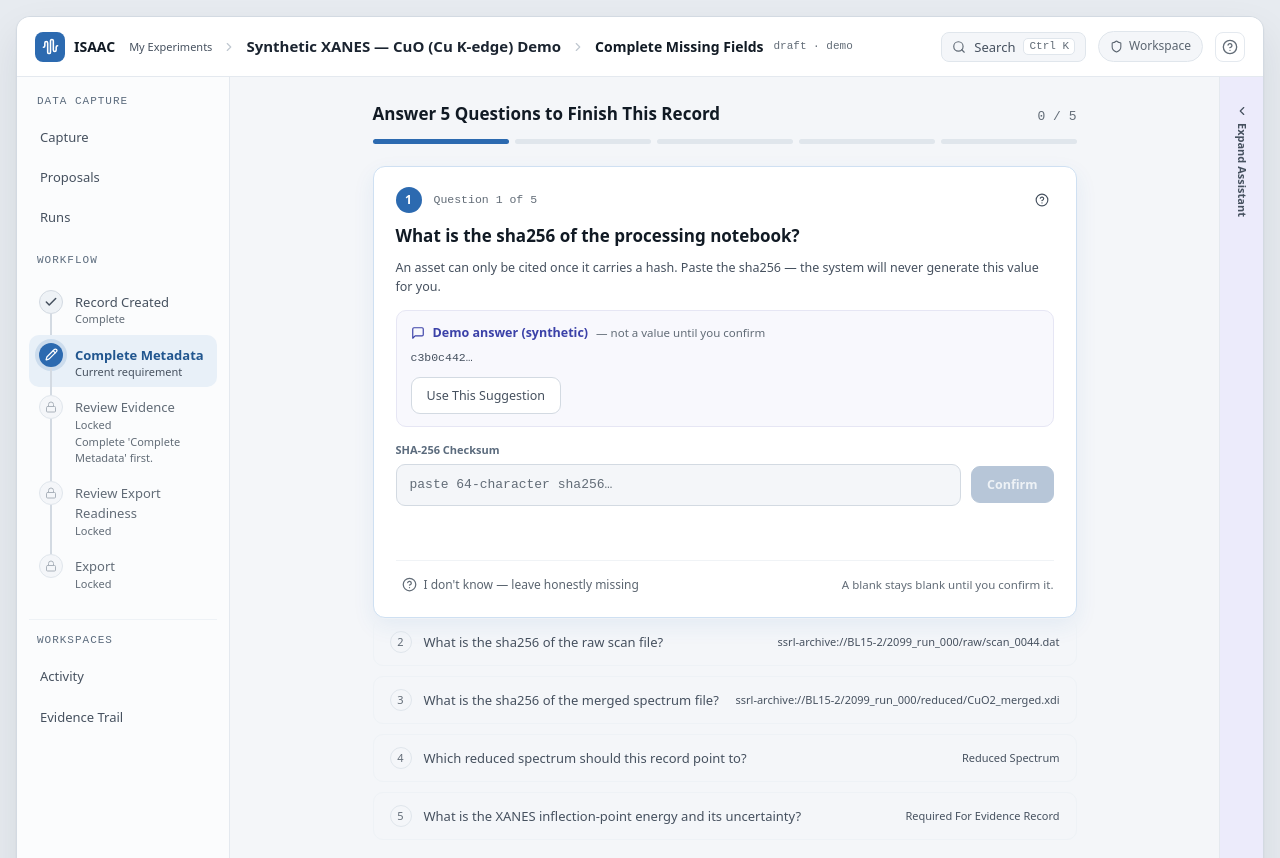
Test: P27.6 · live-sync screen wiring › S4: a change elsewhere shows the input-preserving banner; staged input survives; Refresh reloads
Expected: the heading "What is the sha256 of the processing notebook?" is shown, [396,224,800,247]
stage input WITHOUT submitting
Type "staged-hash" into the field named "Asset Hash".
click(678, 485); type("staged-hash")  # box [396,464,961,506]
Wait 8000 ms
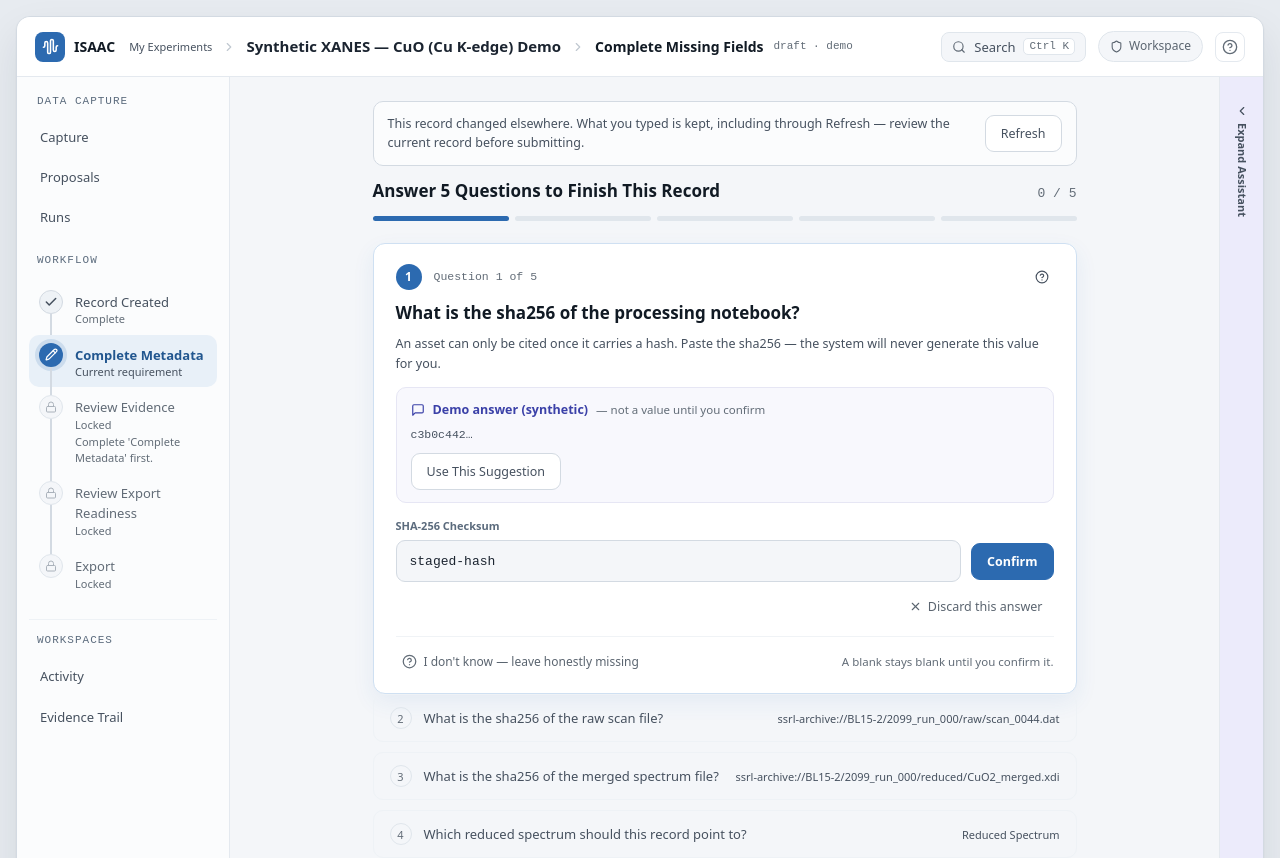
Result: the text "This record changed elsewhere. What you typed is kept, including through Refresh" is shown at [388,115,950,151]
Refresh reloads via the parent (a fresh pending fetch) and clears the banner
Click the button "Refresh".
click(1023, 133)  # box [985,115,1062,152]
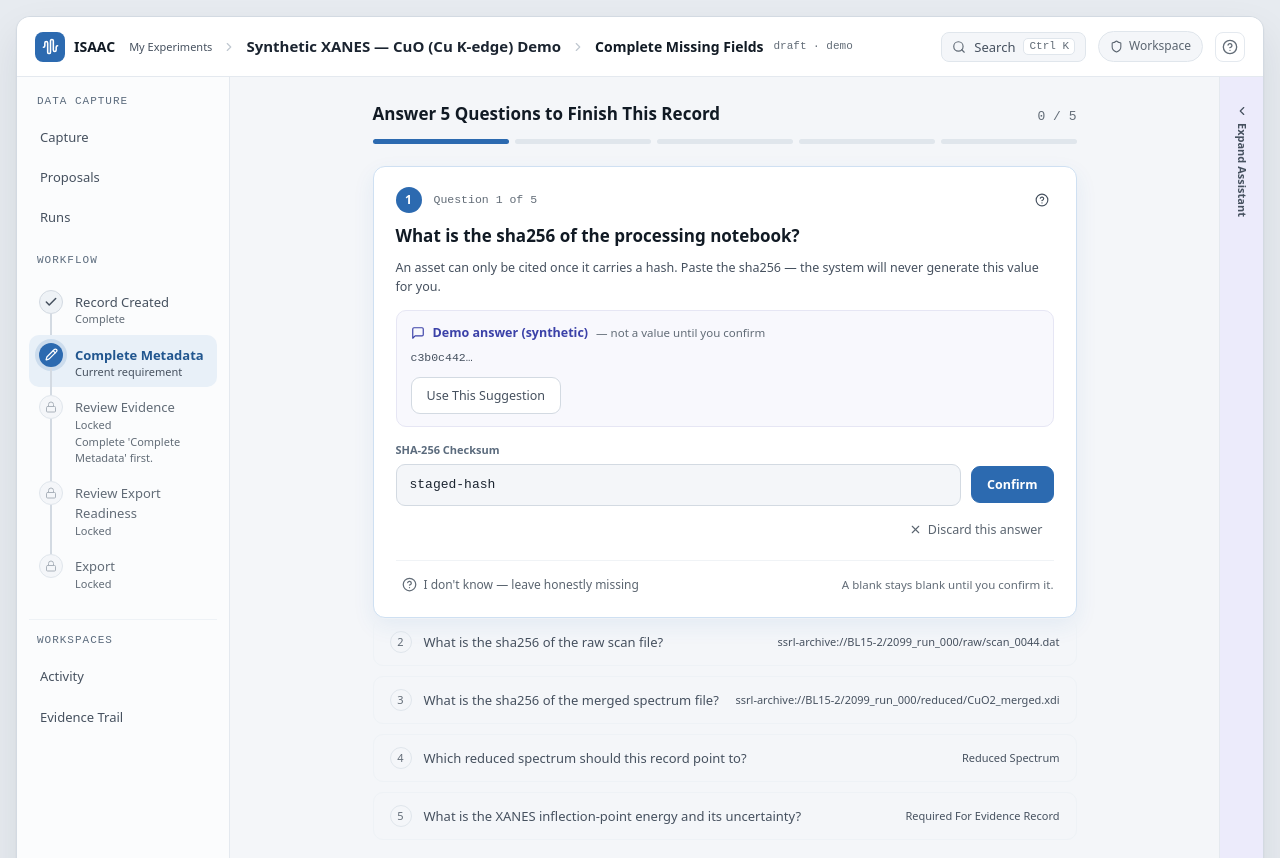
Result: the field named "Asset Hash" holds "staged-hash" at [396,464,961,506]
Result: the text "This record changed elsewhere" is gone
